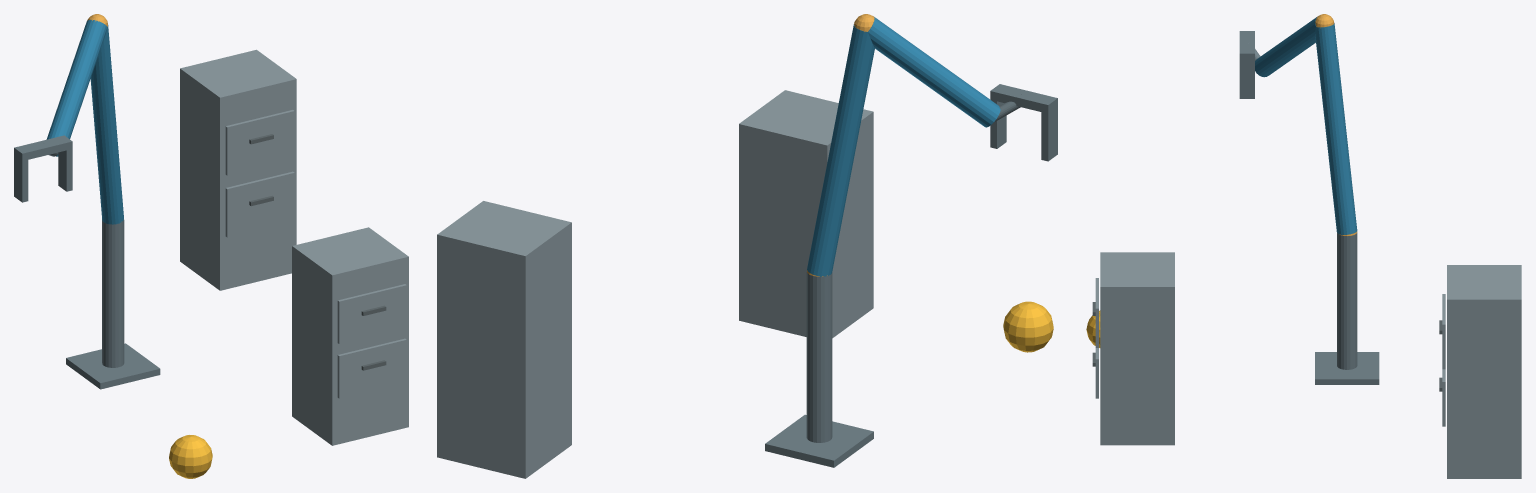
The picture shows the model from 3 angles, left to right: view 1: azimuth 30°, elevation 25°; view 2: azimuth 150°, elevation 25°; view 3: azimuth 270°, elevation 25°; orthographic projection. The views are drawn at different scales.
Parts seen in each view (by area): view 1: cabinet_2 body, cabinet_1 body, moving link 1, cabinet_2 drawer front.001, cabinet_2 drawer front, fixed post, cabinet_1 drawer front, cabinet_1 drawer front.001, moving link 2, pedestal, ball ball_1, gripper bridge (+2 smaller); view 2: cabinet_2 body, cabinet_1 body, moving link 1, fixed post, moving link 2, pedestal, ball ball_1, gripper bridge, gripper finger -1; view 3: cabinet_2 body, cabinet_1 body, moving link 1, fixed post, pedestal, moving link 2, gripper finger 1, gripper bridge.
Boxes of the visible parts, x1,y1,x2,y2 form: cabinet_2 body: [180, 49, 296, 290]; cabinet_1 body: [292, 227, 408, 445]; moving link 1: [90, 25, 123, 224]; cabinet_2 drawer front.001: [225, 110, 294, 175]; cabinet_2 drawer front: [225, 171, 294, 237]; fixed post: [102, 219, 124, 367]; cabinet_1 drawer front: [337, 338, 406, 398]; cabinet_1 drawer front.001: [337, 284, 406, 344]; moving link 2: [46, 19, 107, 156]; pedestal: [66, 343, 160, 389]; ball ball_1: [169, 435, 212, 478]; gripper bridge: [14, 135, 72, 160]; cabinet_2 body: [437, 201, 571, 478]; cabinet_1 body: [739, 90, 873, 338]; moving link 1: [807, 24, 874, 276]; fixed post: [806, 272, 832, 442]; moving link 2: [868, 17, 1000, 127]; pedestal: [765, 414, 873, 467]; ball ball_1: [1003, 301, 1053, 352]; gripper bridge: [990, 84, 1057, 113]; gripper finger -1: [1041, 107, 1057, 161]; cabinet_2 body: [1447, 265, 1521, 478]; cabinet_1 body: [1100, 252, 1174, 445]; moving link 1: [1315, 23, 1357, 234]; fixed post: [1337, 232, 1357, 369]; pedestal: [1315, 352, 1379, 384]; moving link 2: [1255, 17, 1316, 77]; gripper finger 1: [1239, 60, 1254, 98]; gripper bridge: [1239, 31, 1254, 60].
Size of the model in its own units: 1.61 by 1.48 by 1.69.
